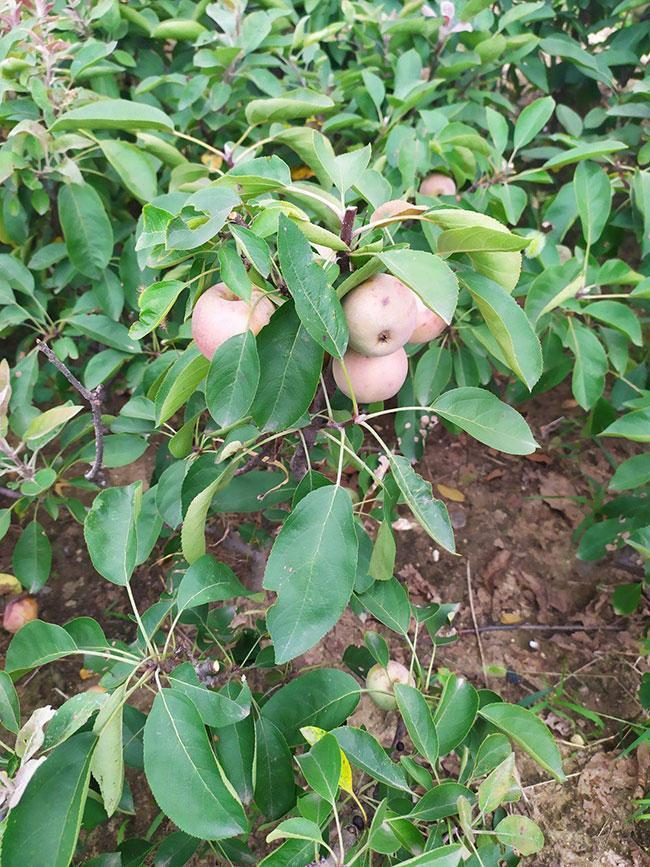apple: (340, 274, 422, 357), (193, 280, 270, 356)
